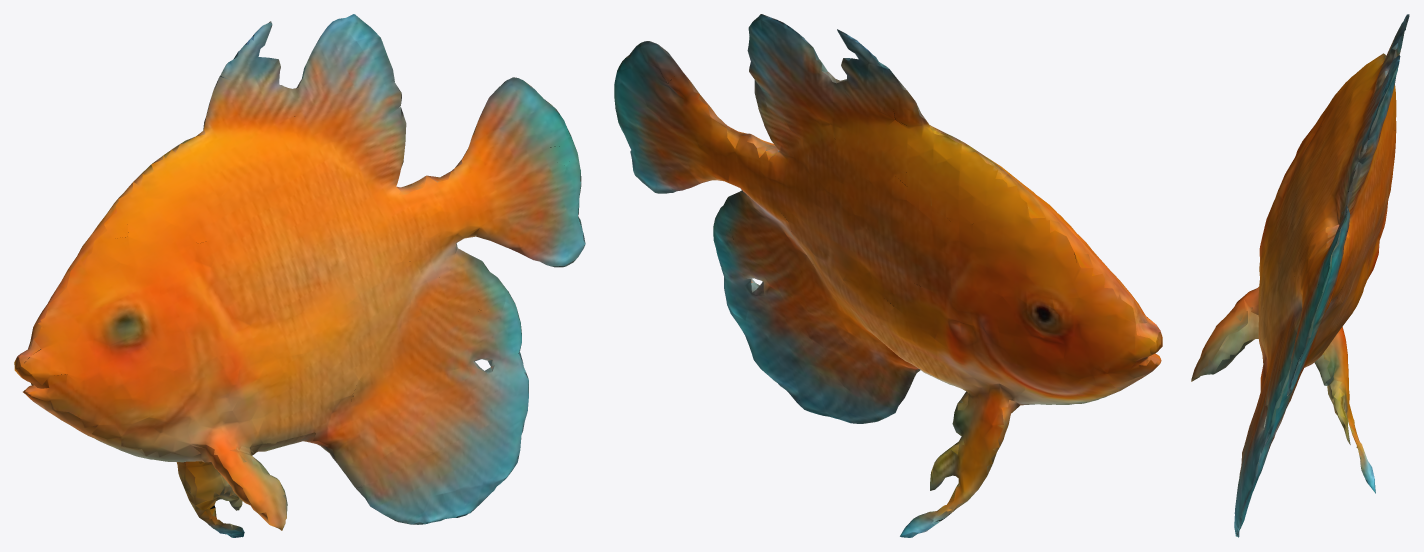
File: tmp2h5k1vmd (1).glb
3 renders of one model, left to right at view 1: azimuth 30°, elevation 25°; view 2: azimuth 150°, elevation 25°; view 3: azimuth 270°, elevation 25°, orthographic. The views are drawn at different scales.
Visible parts, largest first — view 1: world; view 2: world; view 3: world.
Boxes of the visible parts, <box> form: world: <box>14,14,585,537</box>; world: <box>614,14,1162,537</box>; world: <box>1191,14,1409,537</box>.
Bounding box in the file's own units: 0.9311 × 0.8028 × 0.3175.
1 material, 1 textured.
